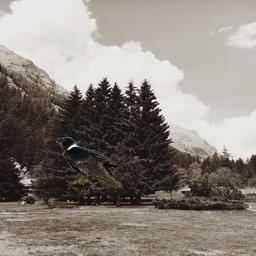Crow: (56, 136, 123, 189)
